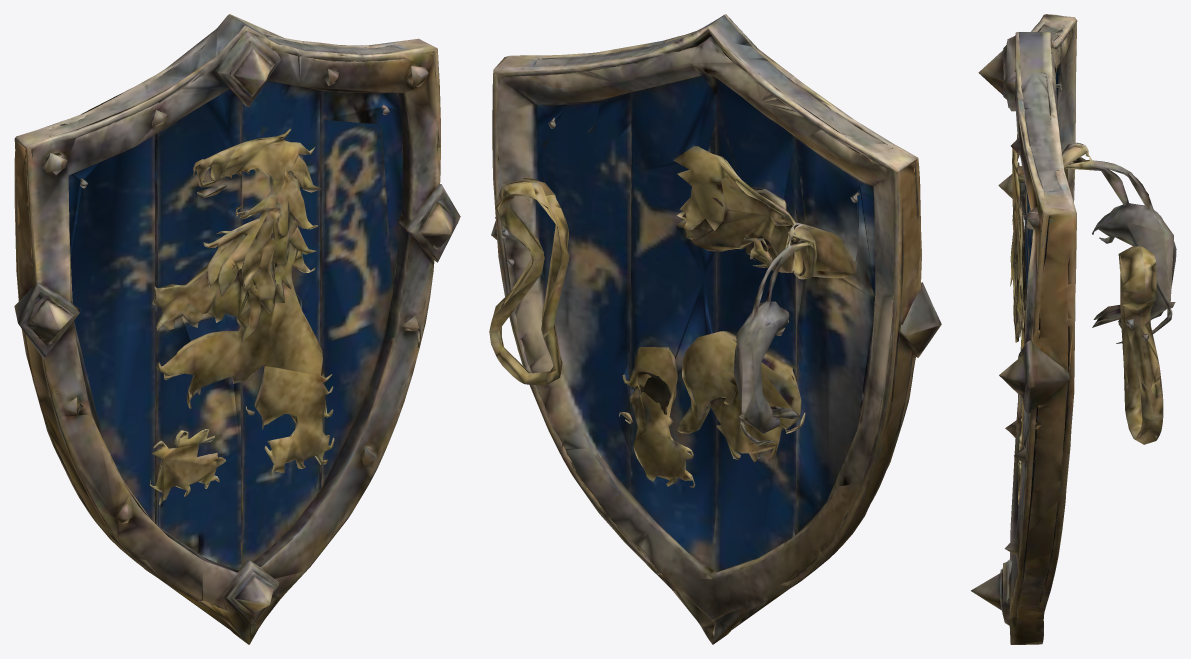
File: shieldModel.glb
3 views of the same model, side by side, from view 1: azimuth 30°, elevation 25°; view 2: azimuth 150°, elevation 25°; view 3: azimuth 270°, elevation 25° (orthographic).
Parts seen in each view (by area): view 1: world; view 2: world; view 3: world.
Part boxes in pixels (x1=…): world: x1=14, y1=14, x2=460, y2=644; world: x1=489, y1=14, x2=941, y2=644; world: x1=971, y1=14, x2=1176, y2=644.
Bounding box in the file's own units: 0.7499 × 1 × 0.3047.
1 material, 1 textured.
